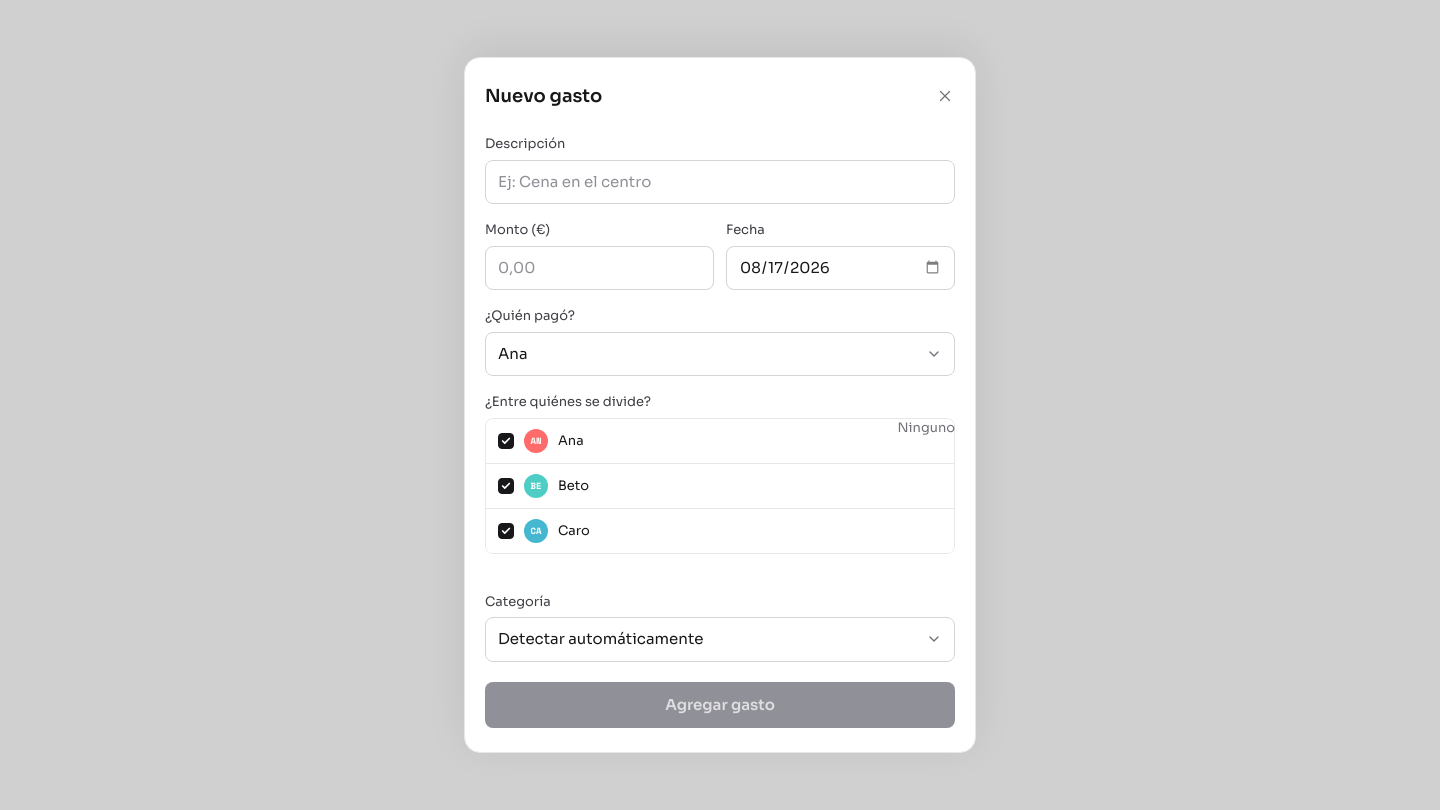
Test: ExpenseSheet › recalcula el reparto al excluir a alguien
In the field labelled "Monto (€)": (600, 268) [485,246,714,290], type "10"
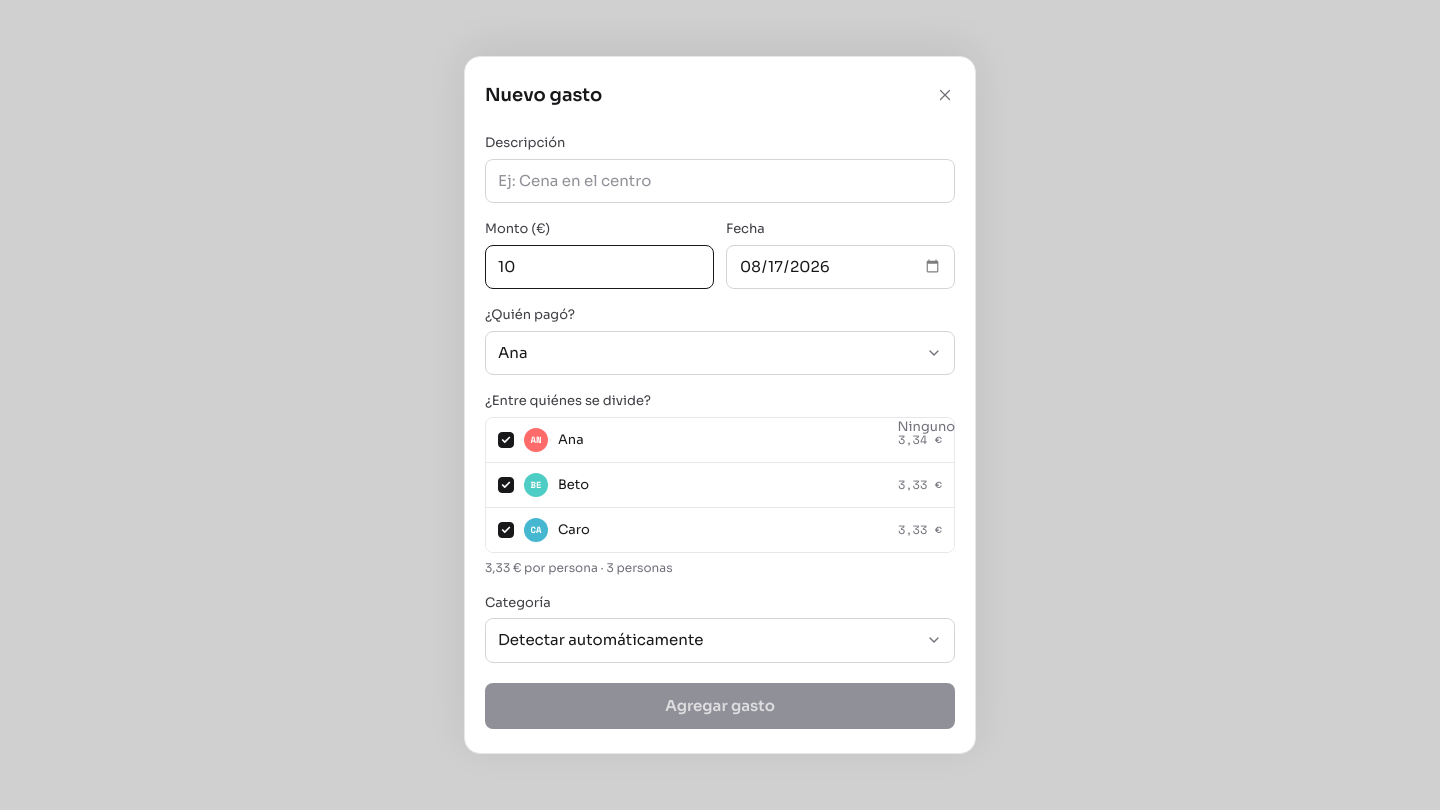
Click the button with aria-label "Caro (incluido)": (574, 529) [486,508,954,552]
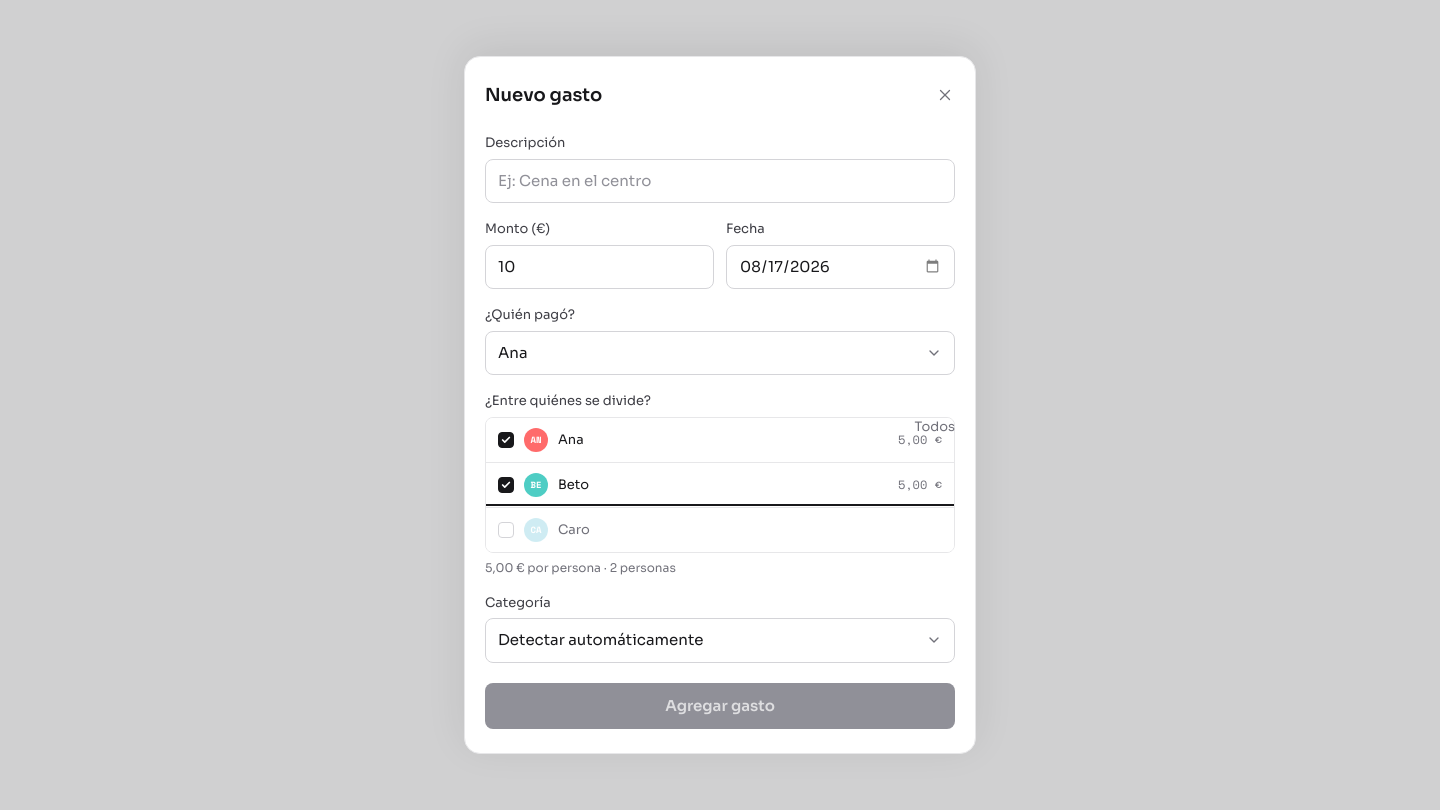
Result: the text "5,00 €" is shown 2 times at [898,430,942,448]; [898,476,942,494]
Result: the button with aria-label "Caro (excluido)" is shown at [486,508,954,552]
